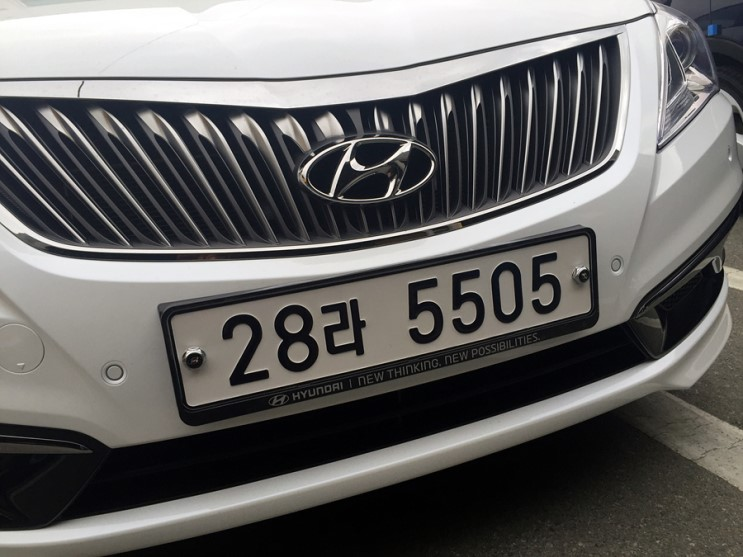plate: (219, 241, 568, 399)
